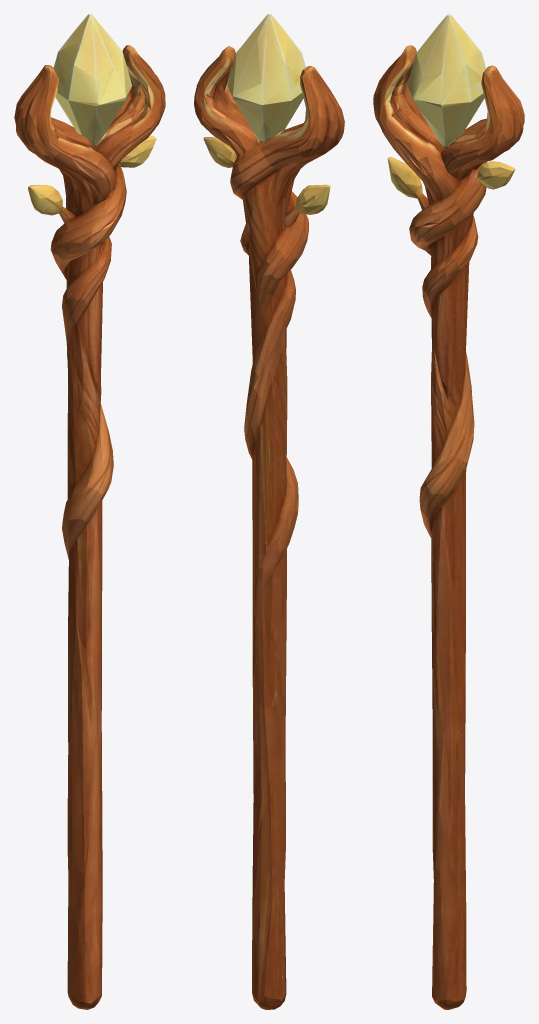
File: bastone.glb
3 views of the same model, side by side, from view 1: azimuth 30°, elevation 25°; view 2: azimuth 150°, elevation 25°; view 3: azimuth 330°, elevation 25° (orthographic).
Bounding box in the file's own units: 0.2843 × 1.9 × 0.1513.
Materials: 1 (1 with a texture image).
